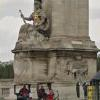Statue: (10, 2, 54, 57)
